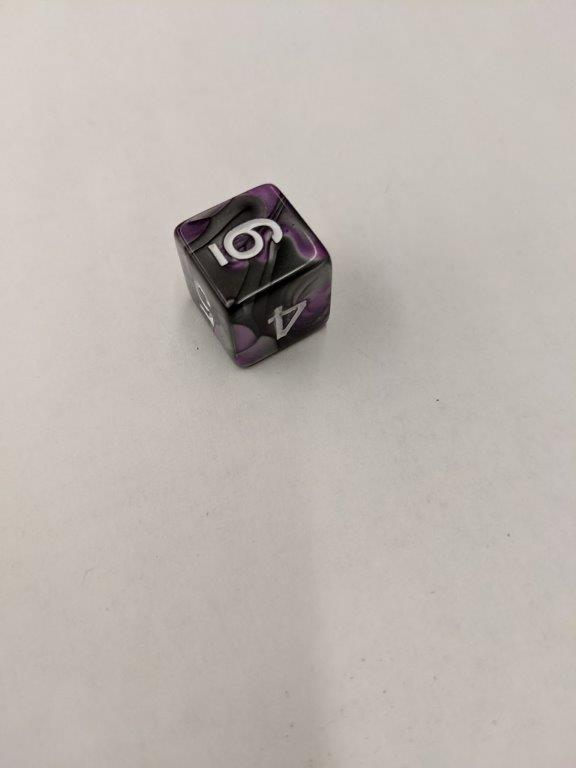d6-6: (174, 181, 332, 373)
